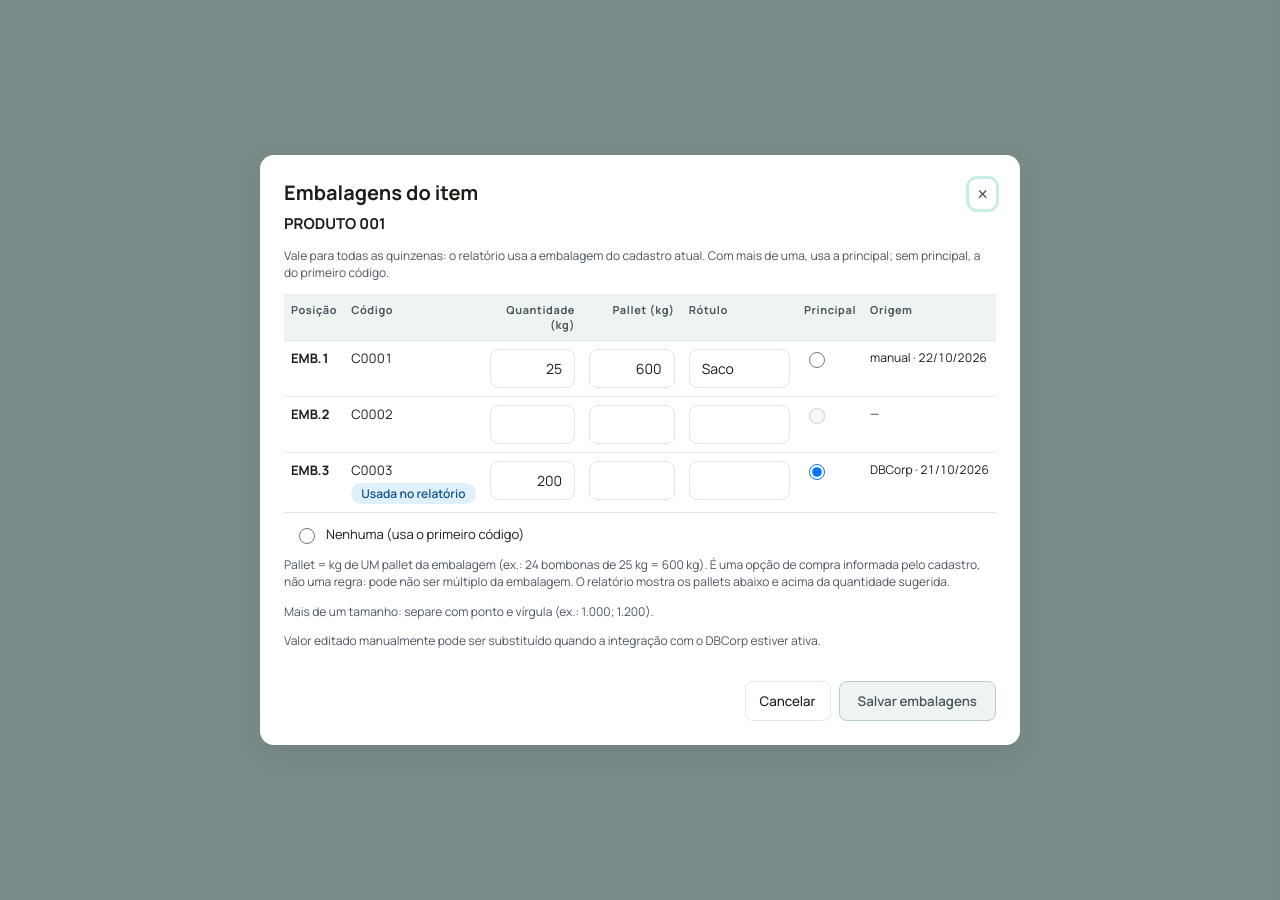
ForecastEmbalagensModal - pallet fechado (PR 6e) › 400 do backend sobre o pallet aparece em role="alert" e mantem o texto digitado
Expected: the text "PRODUTO 001" is shown, [284,213,386,235]
Replace the text in the field named "Pallet em kg do código C0001" with "1.200" at [632, 368], box [589,349,675,388]
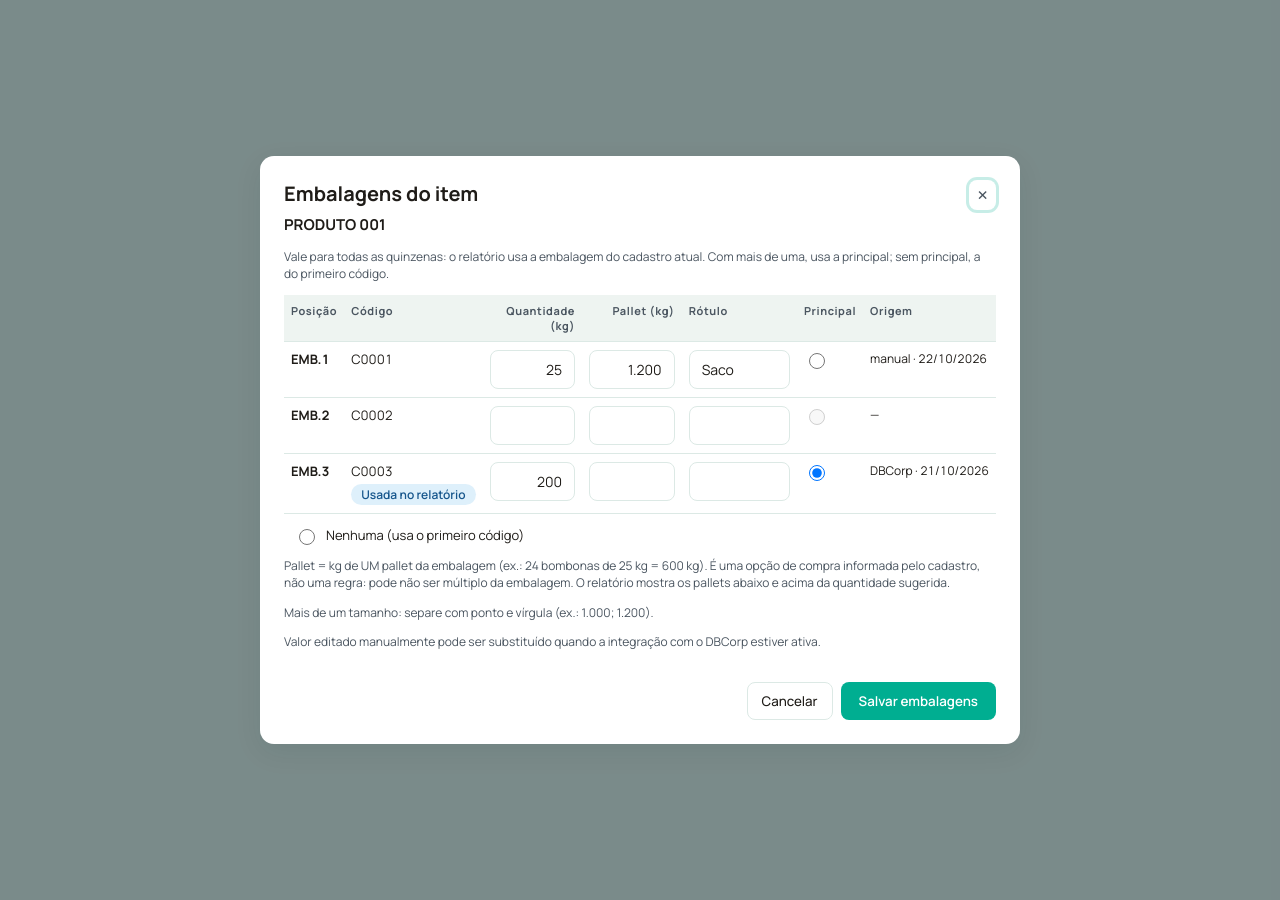
Click the button "Salvar embalagens" at [918, 701], box [841,682,996,720]
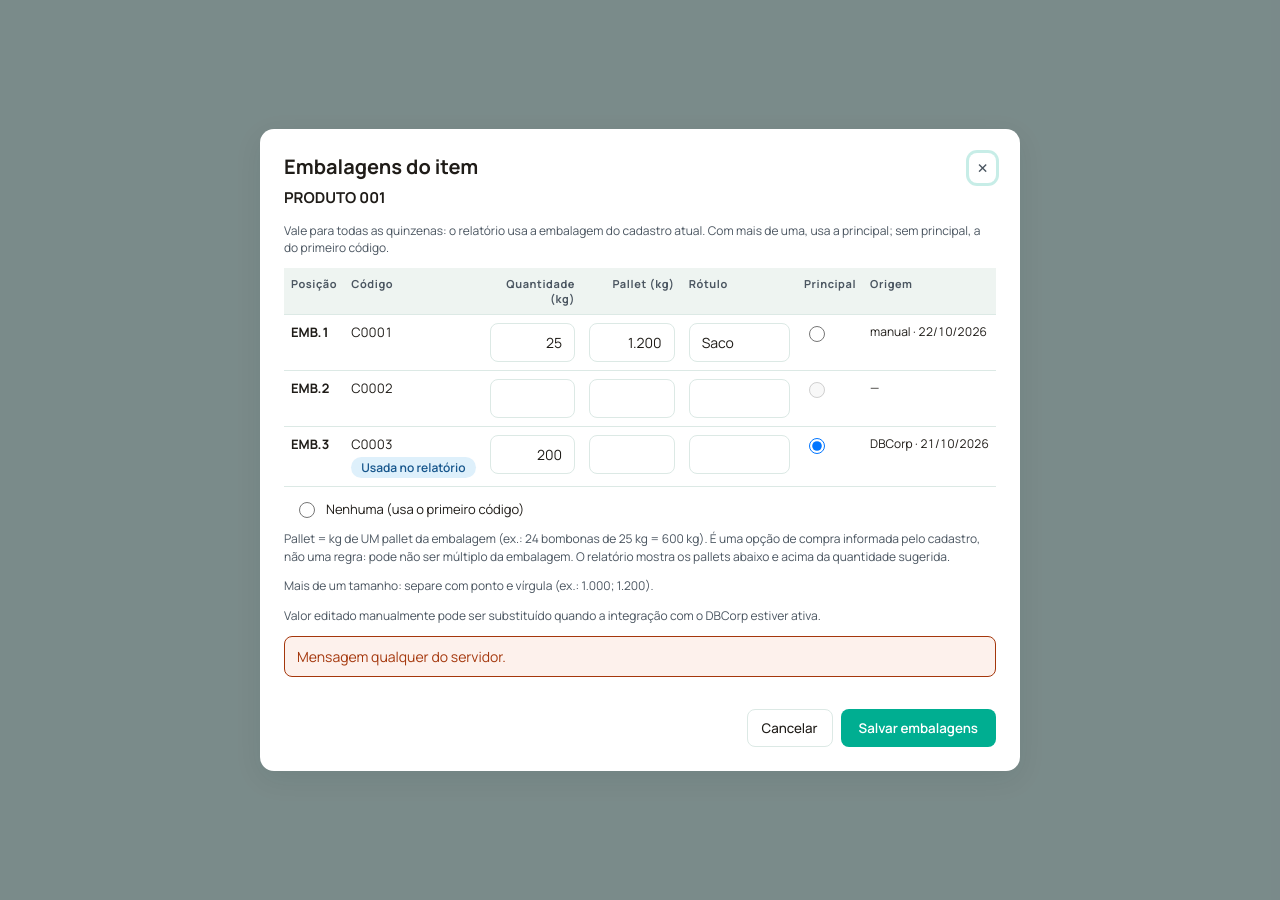
Expected: the message reads "Mensagem qualquer do servidor.", [297,647,506,666]
